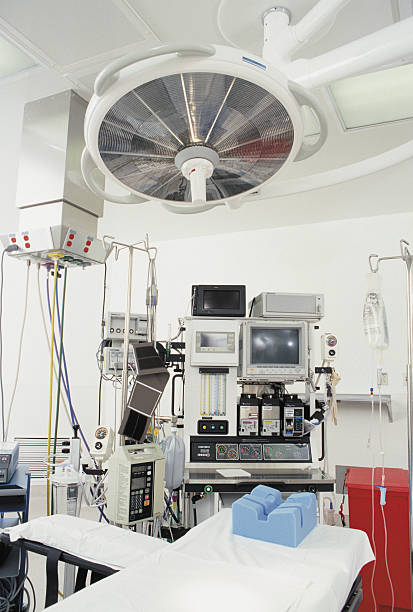bedside_monitor: (243, 321, 308, 377), (195, 285, 247, 315), (193, 330, 244, 360)
infusion_pump: (106, 441, 166, 525)
iv_pole: (363, 238, 413, 611), (101, 232, 160, 468)
operating_bed: (38, 506, 376, 612)
surgical_light: (81, 42, 328, 213)
table: (1, 514, 172, 608)
waste_bin: (337, 461, 413, 612)
